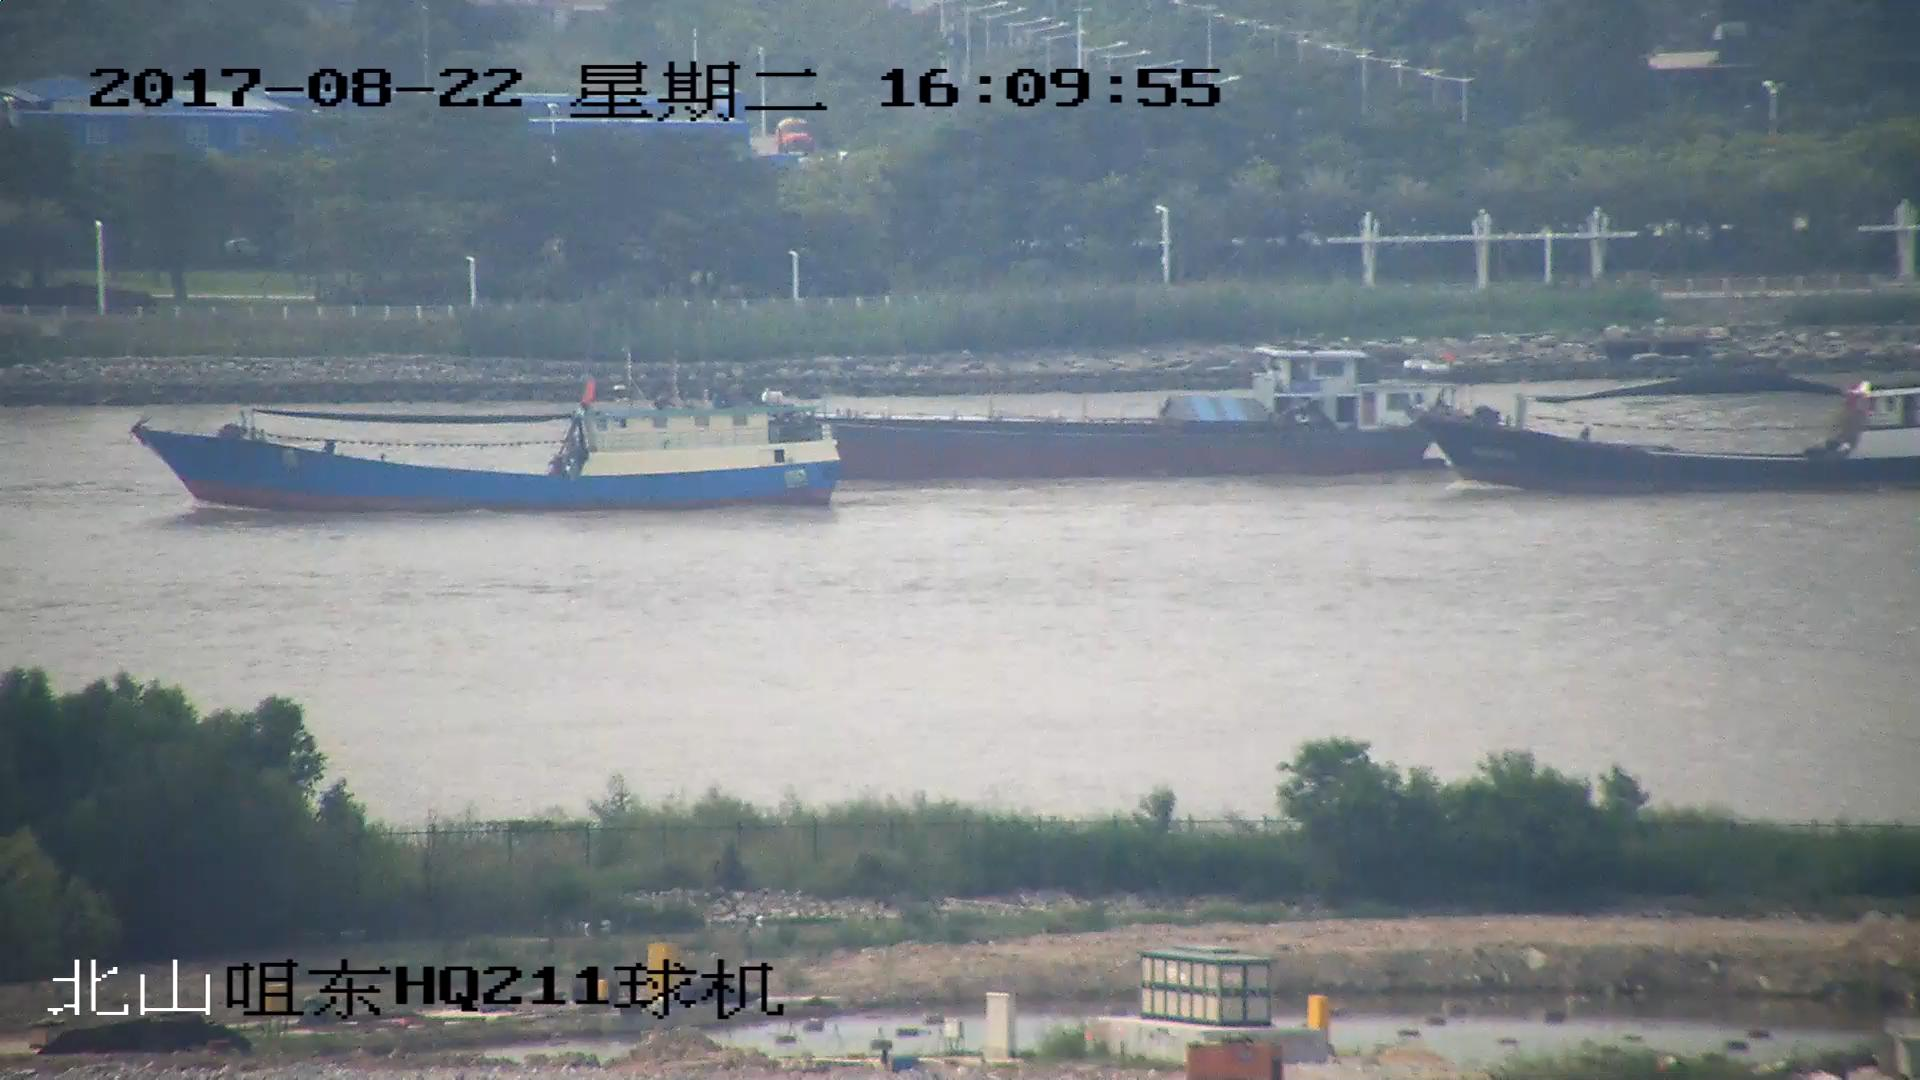bulk cargo carrier: (776, 348, 1442, 478)
fishing boat: (131, 365, 846, 518), (1412, 354, 1920, 492)
